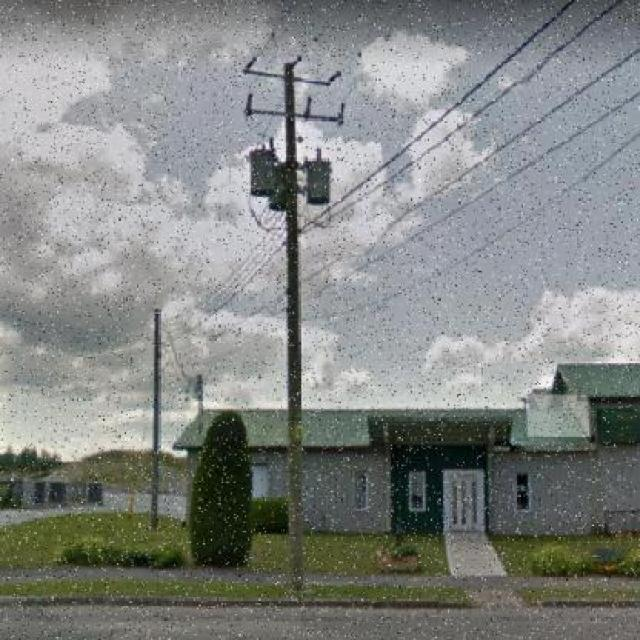pole: (224, 32, 362, 603)
